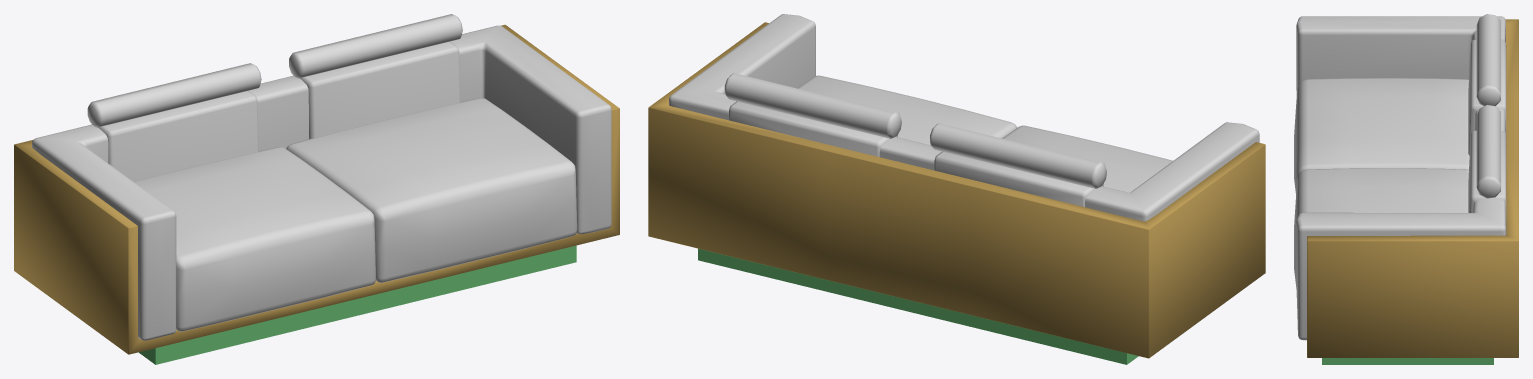
The model's file is MZCSF05.FBX.
The picture shows the model from 3 angles, left to right: view 1: azimuth 30°, elevation 25°; view 2: azimuth 150°, elevation 25°; view 3: azimuth 270°, elevation 25°; orthographic projection. The views are drawn at different scales.
Visible parts, largest first — view 1: MZCSF05; view 2: MZCSF05; view 3: MZCSF05.
Part boxes in pixels (box(x1,y1,x2,y2)): MZCSF05: box(14, 14, 619, 364); MZCSF05: box(648, 14, 1265, 364); MZCSF05: box(1294, 14, 1518, 364).
Bounding box in the file's own units: 210 × 90 × 76.99.
